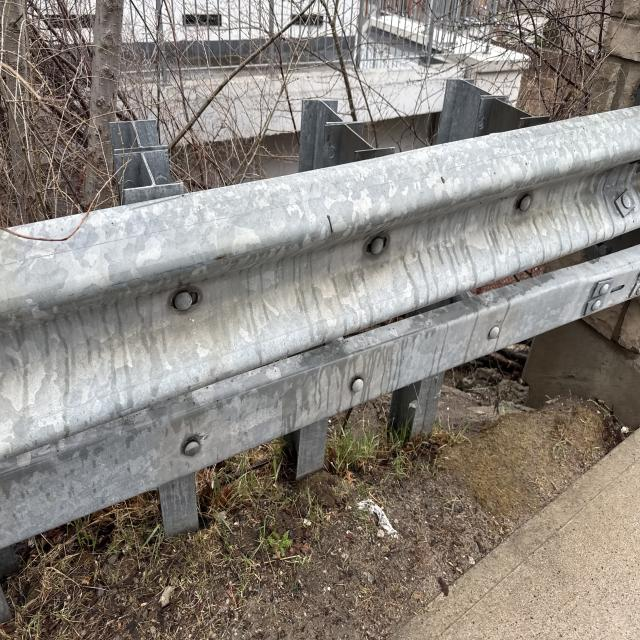Guard rail: (21, 123, 638, 409)
